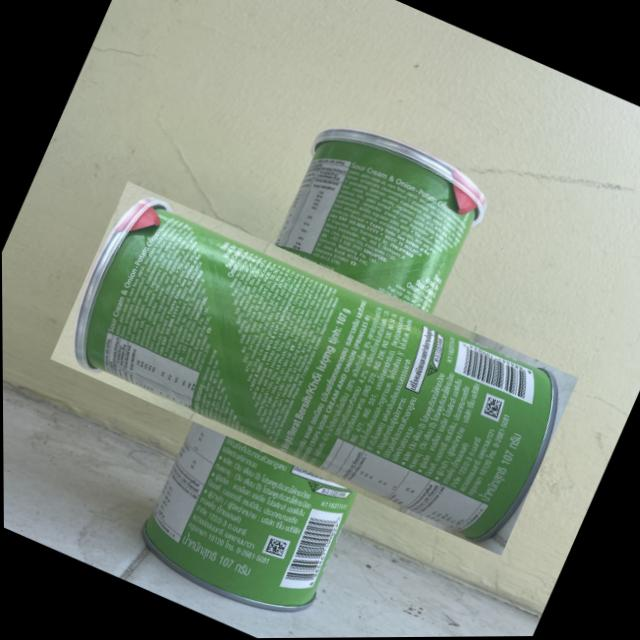a pringles: (86, 141, 542, 597)
